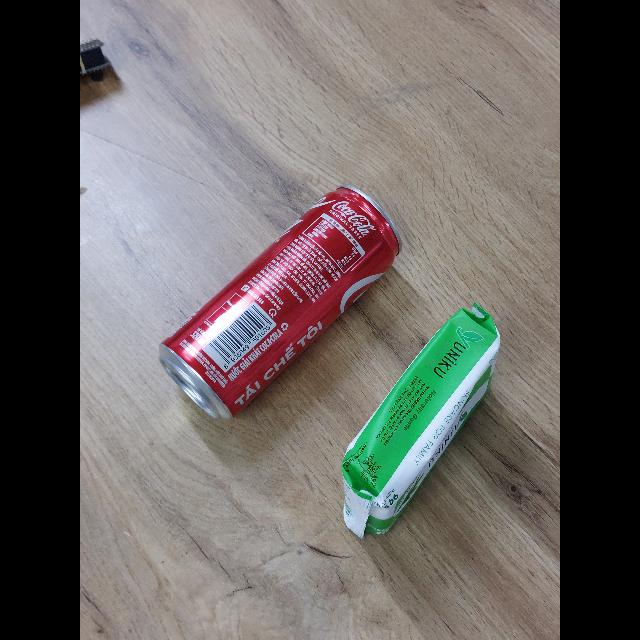coca_cola: (159, 187, 400, 419)
khan_giay: (342, 303, 500, 538)
